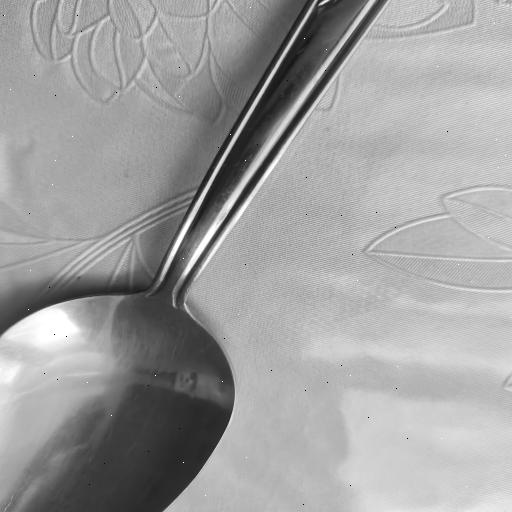spoon: (0, 0, 390, 511)
